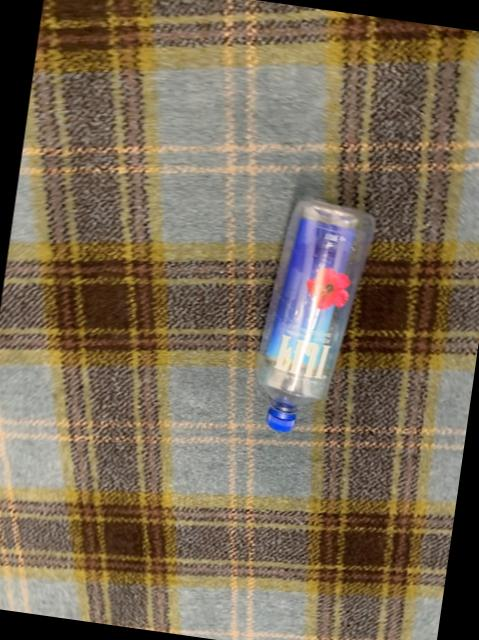plastic: (254, 200, 373, 432)
